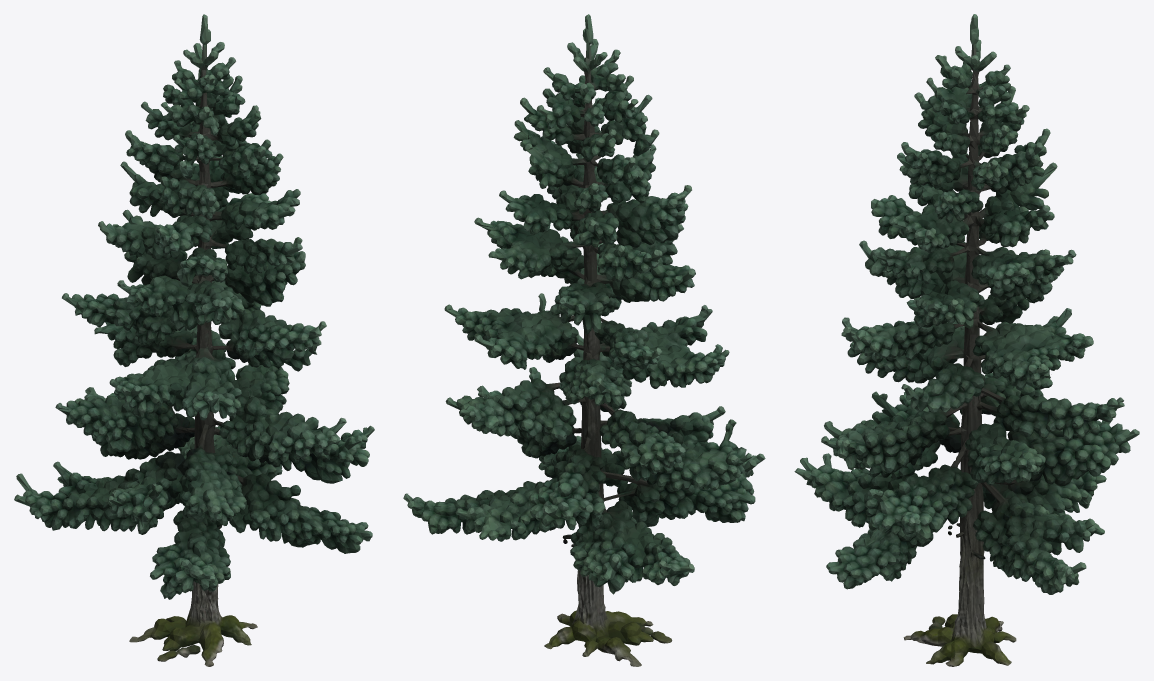
The model's file is fir.glb.
The picture shows the model from 3 angles, left to right: view 1: azimuth 30°, elevation 25°; view 2: azimuth 150°, elevation 25°; view 3: azimuth 270°, elevation 25°; orthographic projection. The views are drawn at different scales.
Visible parts, largest first — view 1: world; view 2: world; view 3: world.
Boxes of the visible parts, left/top/right/bottom form: world: left=14, top=14, right=374, bottom=666; world: left=403, top=14, right=765, bottom=666; world: left=794, top=14, right=1139, bottom=666.
Size of the model in its own units: 0.4828 by 0.9993 by 0.4885.
Materials: 1 (1 with a texture image).
